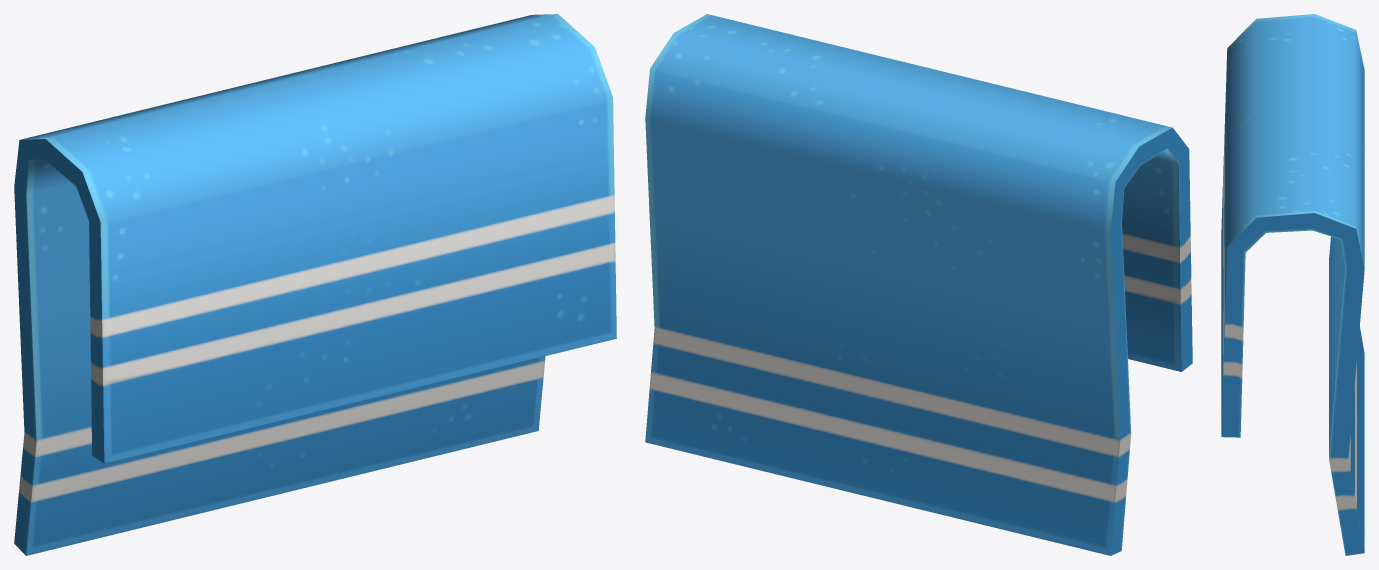
Rendered from cleaners_cleaningCloth_1.fbx.
The picture shows the model from 3 angles, left to right: view 1: azimuth 30°, elevation 25°; view 2: azimuth 150°, elevation 25°; view 3: azimuth 270°, elevation 25°; orthographic projection. The views are drawn at different scales.
Parts seen in each view (by area): view 1: cleaners_cleaningCloth_1; view 2: cleaners_cleaningCloth_1; view 3: cleaners_cleaningCloth_1.
Part boxes in pixels (box(x1,y1,x2,y2)): cleaners_cleaningCloth_1: box(14, 14, 616, 555); cleaners_cleaningCloth_1: box(645, 14, 1192, 555); cleaners_cleaningCloth_1: box(1221, 14, 1364, 555).
Bounding box in the file's own units: 12.09 × 9.72 × 3.69.
